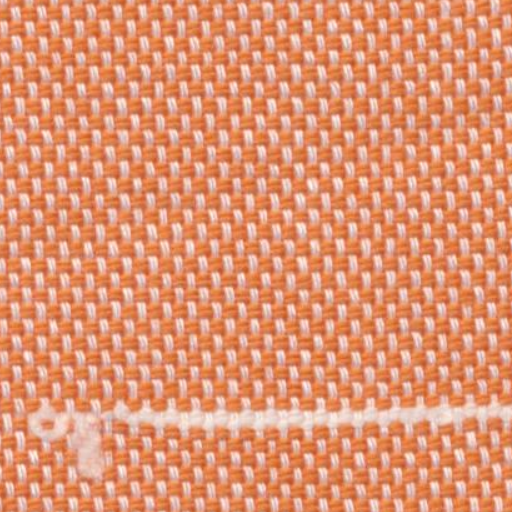DuanSha: (16, 384, 122, 488)
